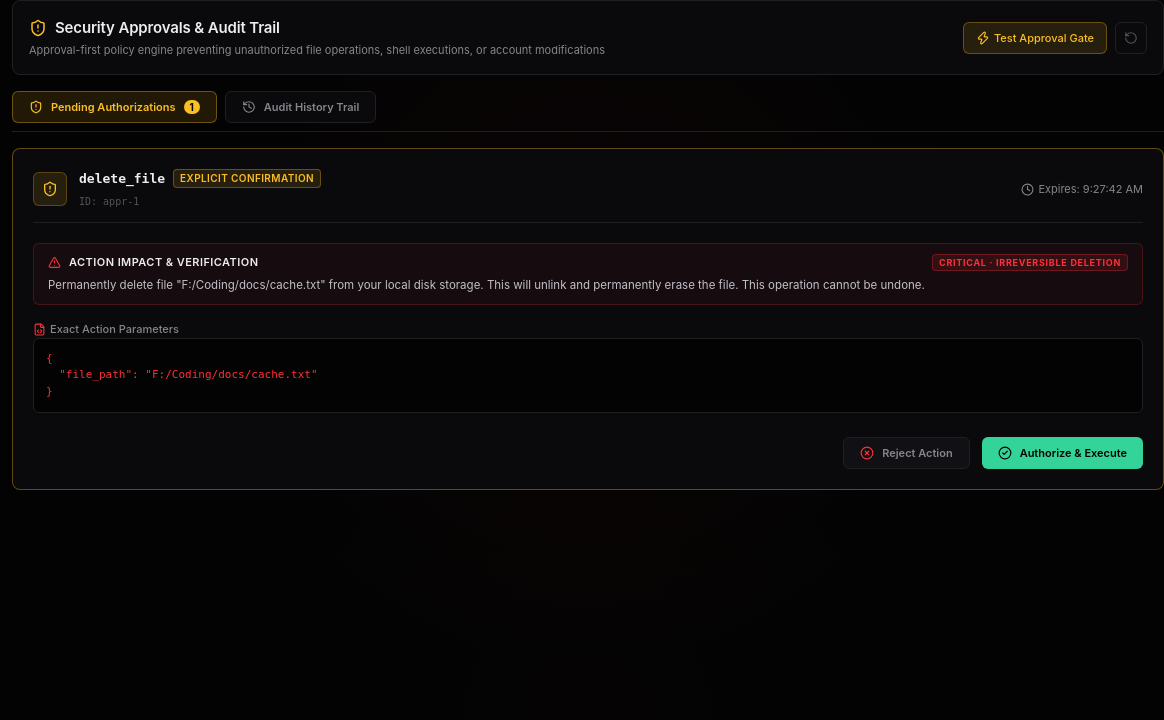
Test: ApprovalDialog Component › rejects an action when Reject Action is clicked
expect the text "delete_file" is shown: met, box 79,169 -> 165,188
Click the button "Reject Action" at point(906, 453), box 843,437 -> 970,469
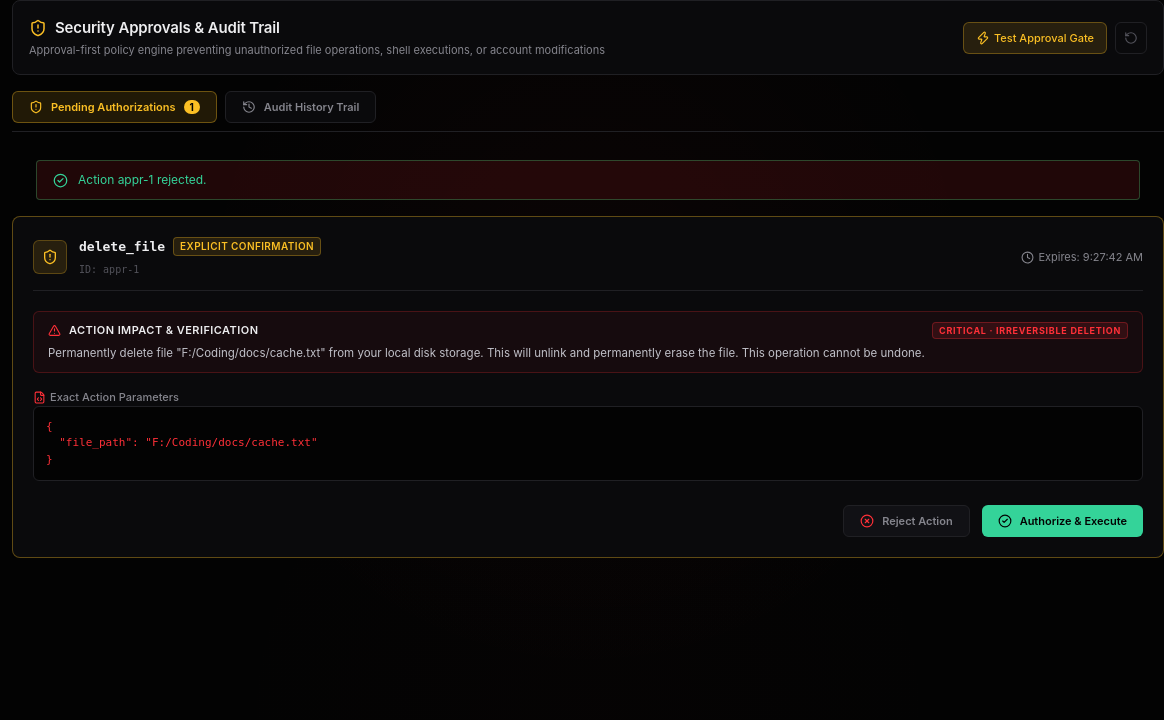
expect the text "Action appr-1 rejected." is shown: met, box 78,171 -> 207,189
